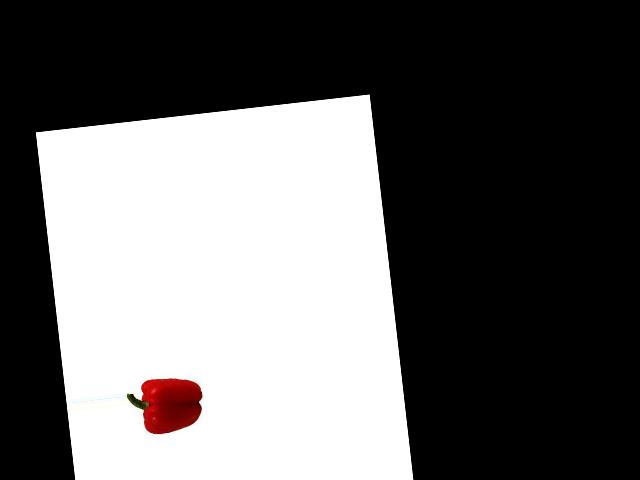bell_pepper: (125, 371, 207, 445)
